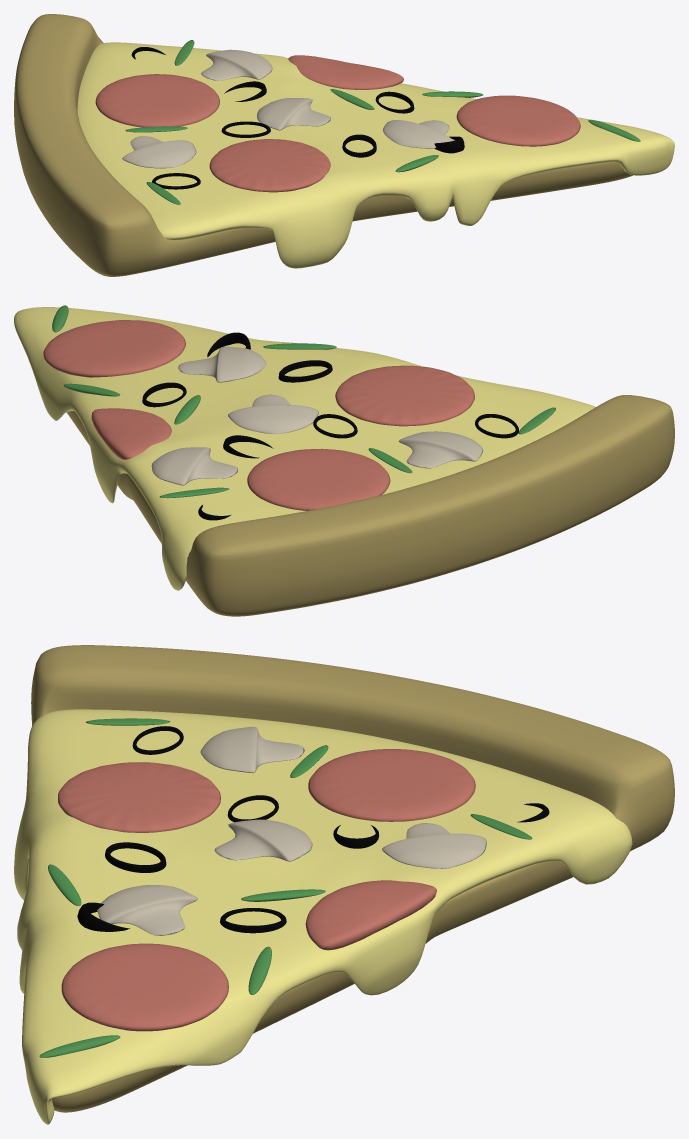
File: pizza.fbx
3 renders of one model, top to bottom at view 1: azimuth 30°, elevation 25°; view 2: azimuth 150°, elevation 25°; view 3: azimuth 270°, elevation 25°, orthographic. The views are drawn at different scales.
Visible parts, largest first — view 1: syr, korka, kolbasa, grib, olivki, zelen; view 2: korka, syr, kolbasa, grib, olivki, zelen; view 3: syr, korka, kolbasa, grib, olivki, zelen.
Boxes of the visible parts, x1,y1,x2,y2 form: syr: [77, 42, 674, 268]; korka: [14, 14, 632, 276]; kolbasa: [95, 55, 580, 192]; grib: [122, 49, 453, 168]; olivki: [131, 47, 464, 189]; zelen: [125, 40, 640, 204]; korka: [67, 395, 674, 616]; syr: [14, 307, 595, 590]; kolbasa: [43, 320, 474, 510]; grib: [151, 346, 483, 485]; olivki: [142, 332, 518, 520]; zelen: [52, 305, 555, 498]; syr: [14, 709, 632, 1124]; korka: [31, 645, 674, 1112]; kolbasa: [58, 749, 475, 1031]; grib: [97, 726, 486, 935]; olivki: [77, 726, 549, 933]; zelen: [39, 718, 532, 1057].
Size of the model in its own units: 3.4 by 0.5143 by 2.52.
